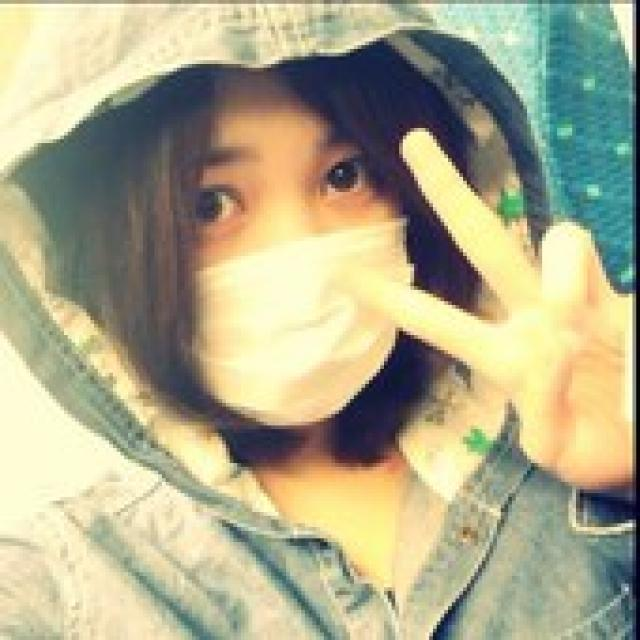mask: (164, 62, 416, 420)
